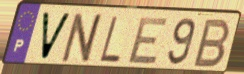9: (166, 17, 197, 67)
B: (190, 18, 233, 69)
E: (125, 16, 171, 65)
L: (98, 14, 122, 65)
N: (58, 12, 107, 65)
V: (40, 10, 73, 63)
